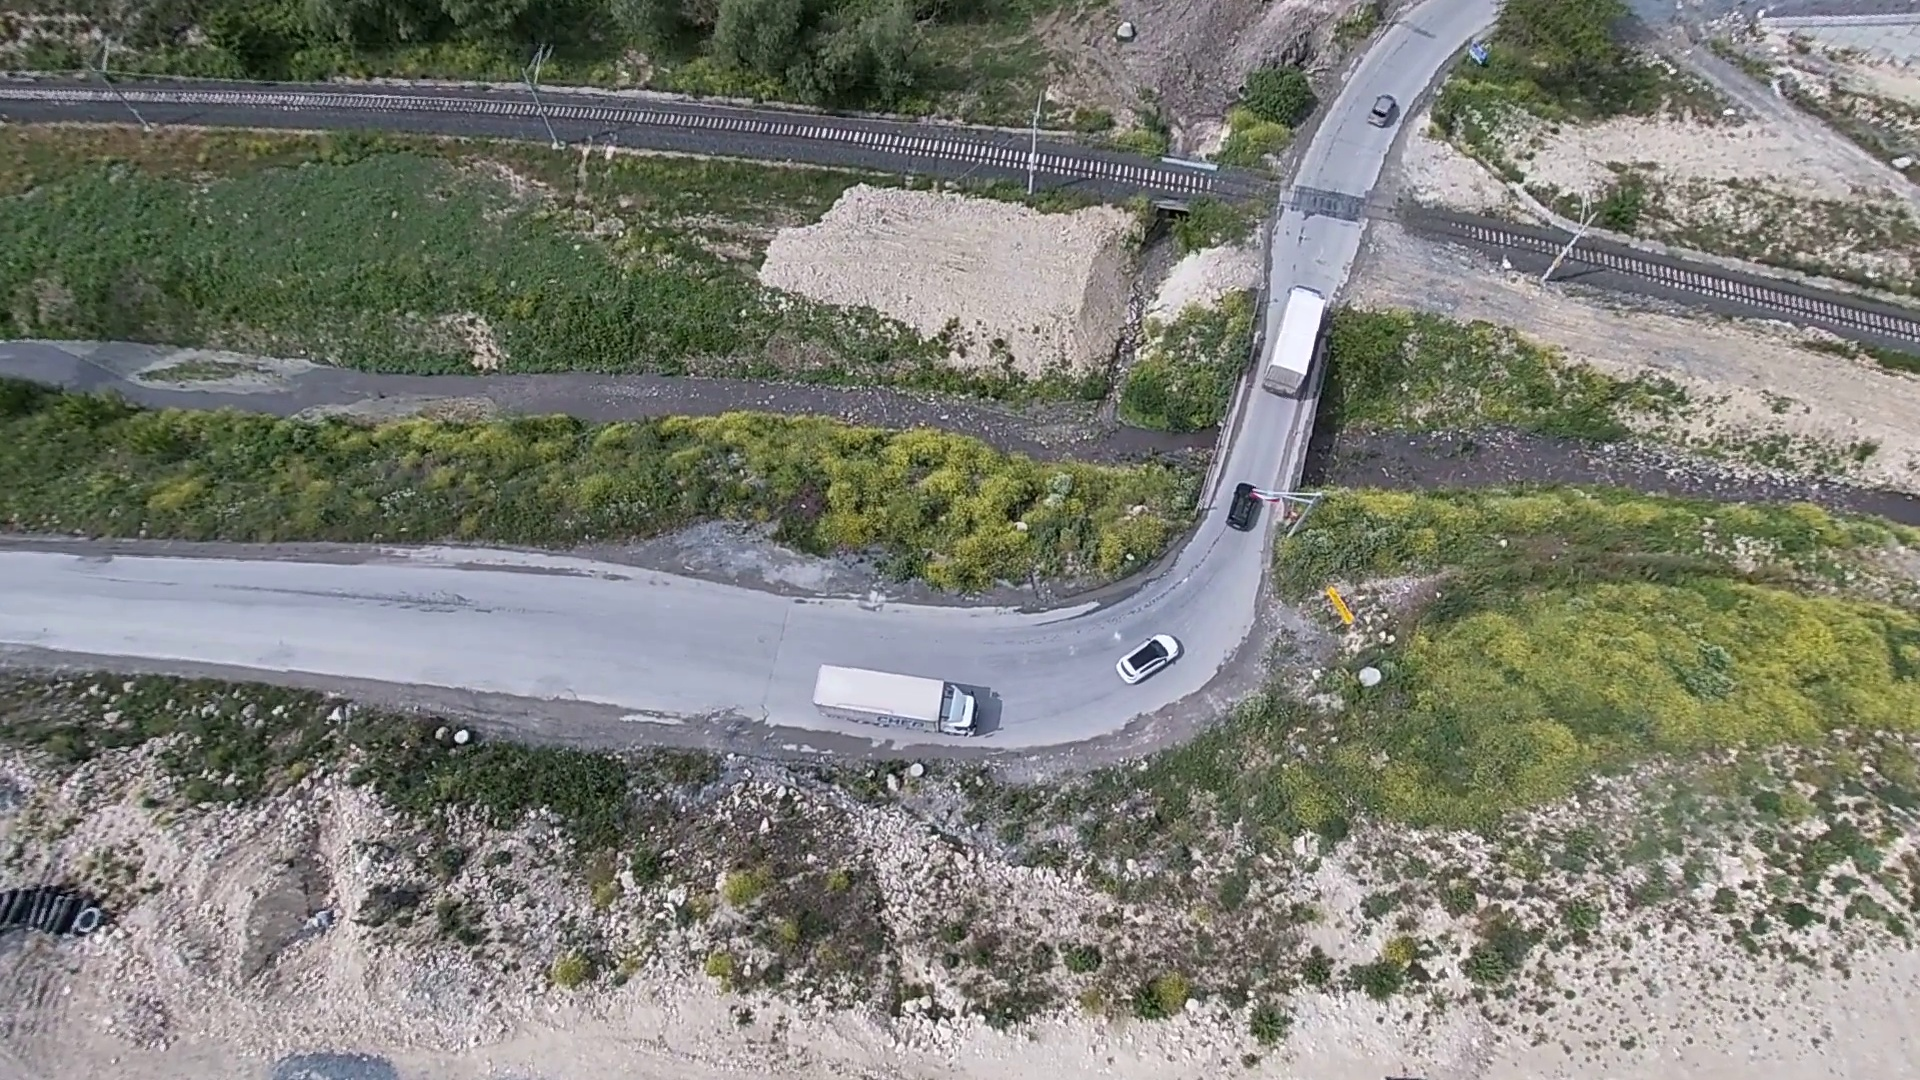araba: (1114, 629, 1185, 678), (1222, 483, 1273, 531), (1358, 88, 1404, 135)
kamyon: (814, 658, 984, 742), (1258, 281, 1325, 401)
